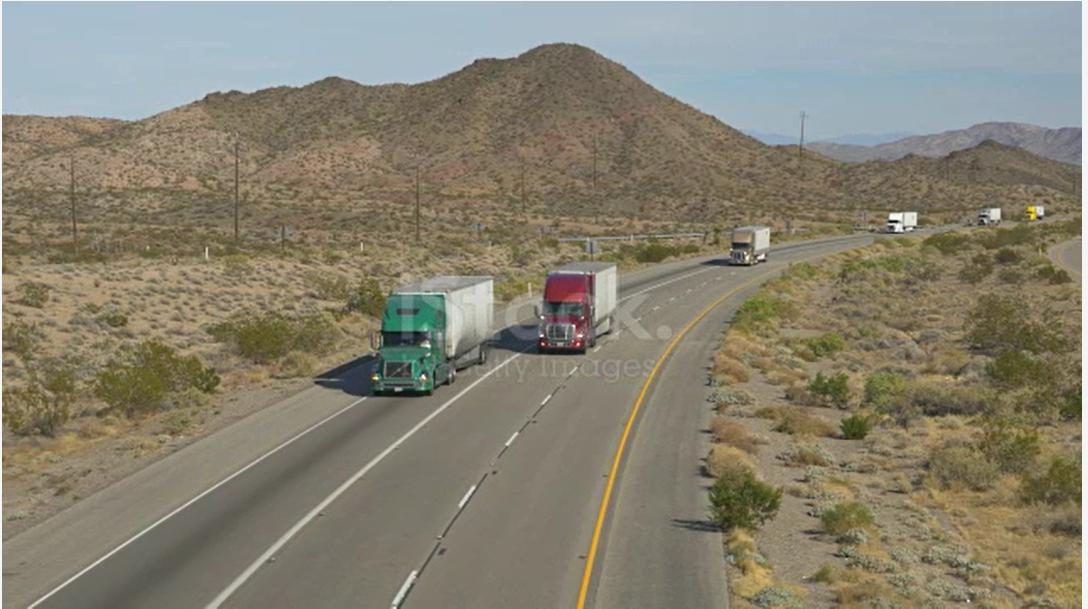truck: (359, 260, 518, 417), (506, 252, 639, 369), (730, 217, 780, 272), (880, 206, 918, 239), (968, 206, 1009, 235), (1022, 205, 1047, 224)
